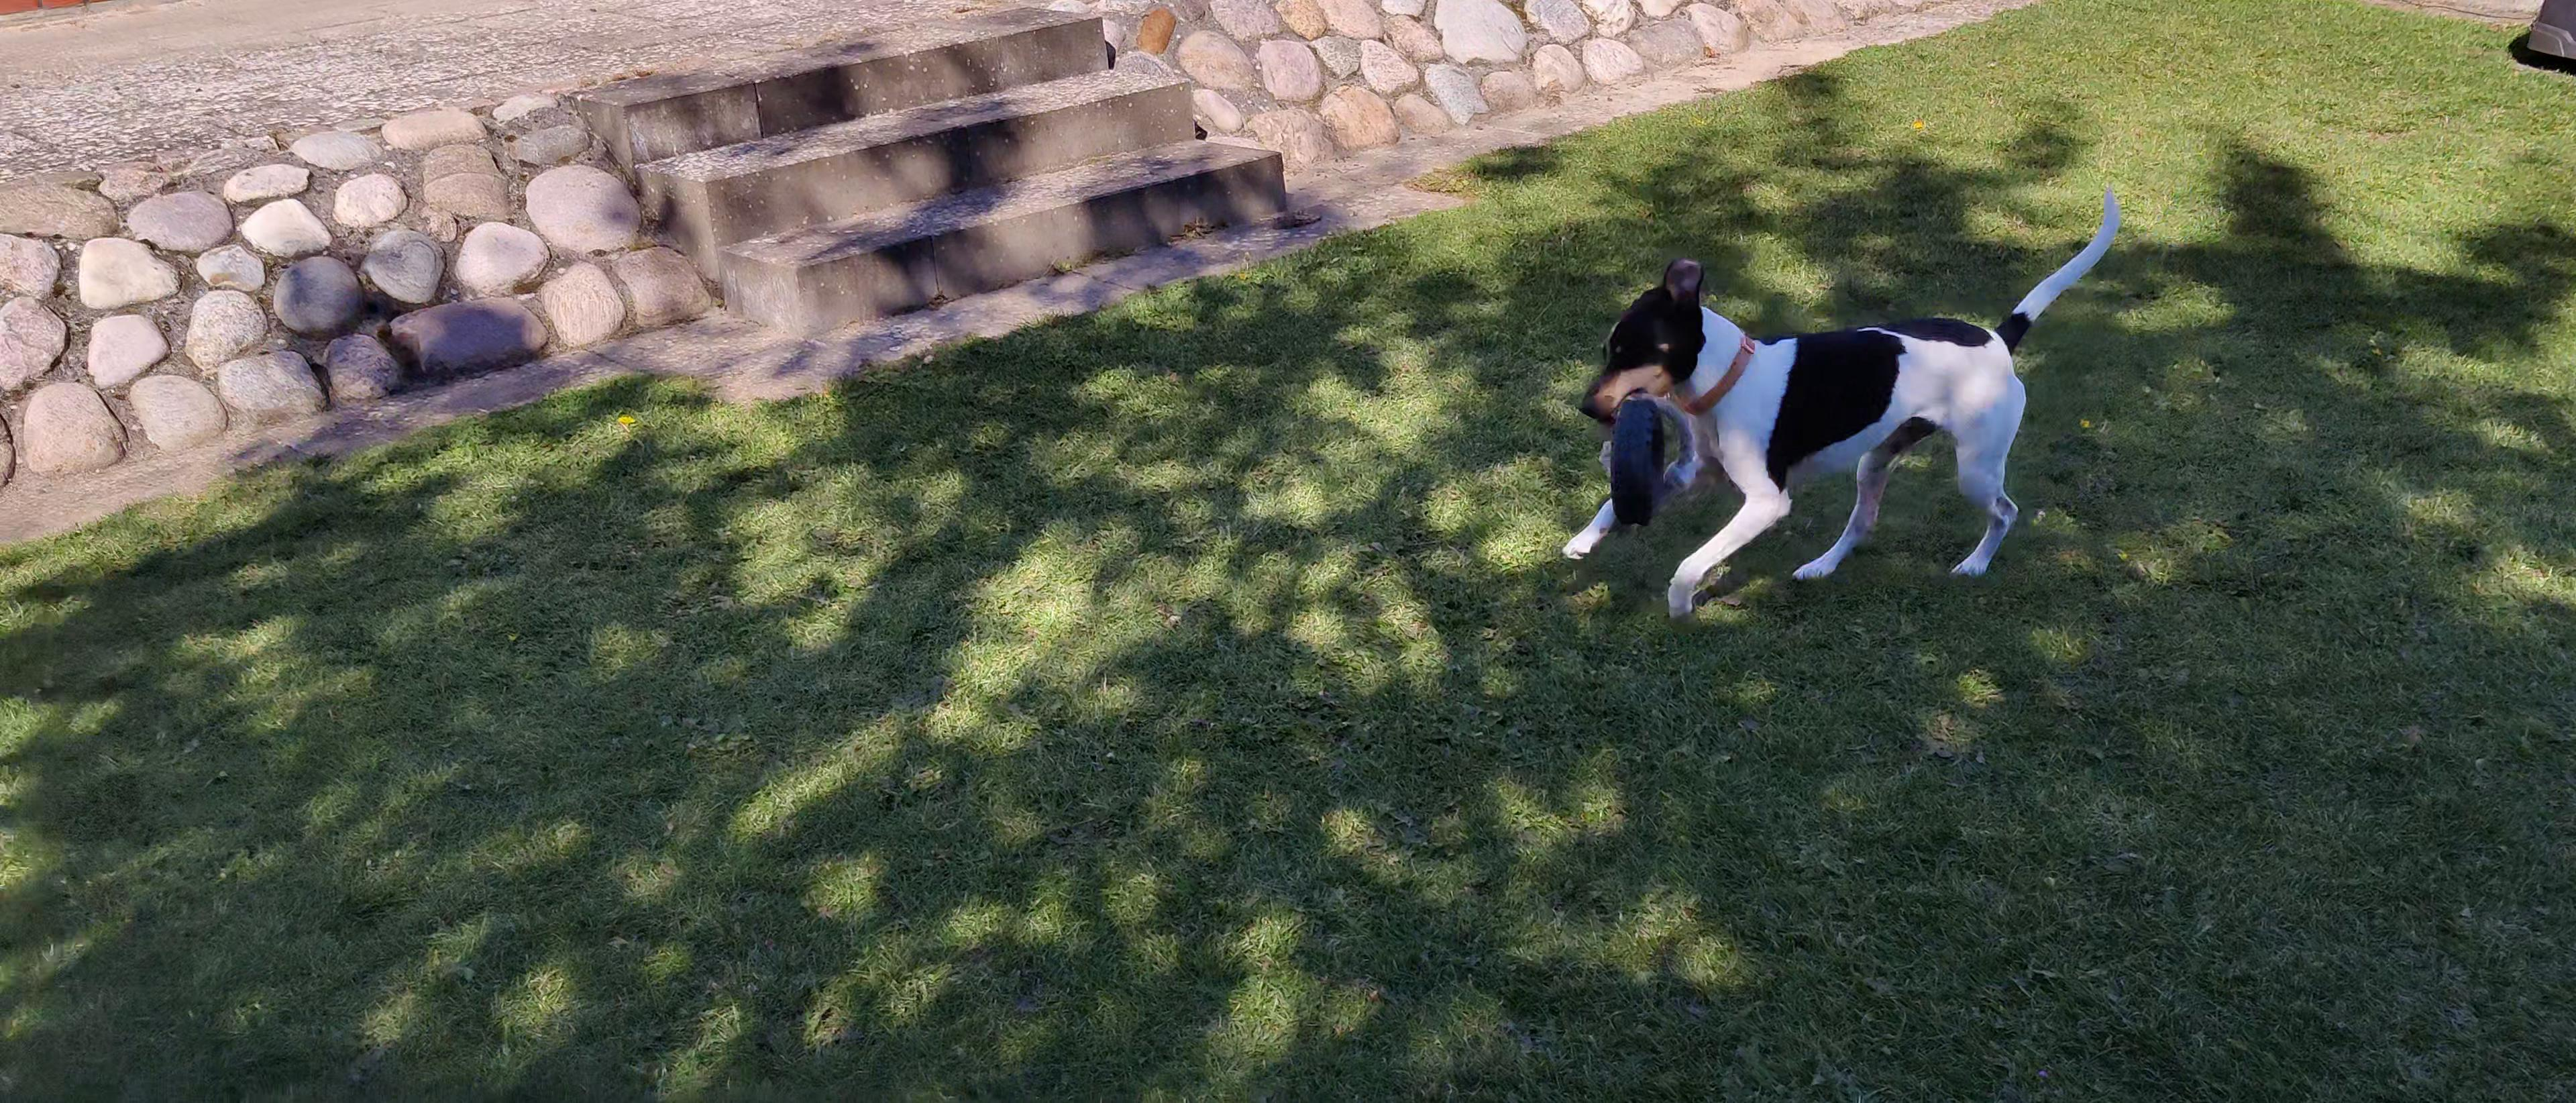Dog: (1523, 181, 2124, 636)
